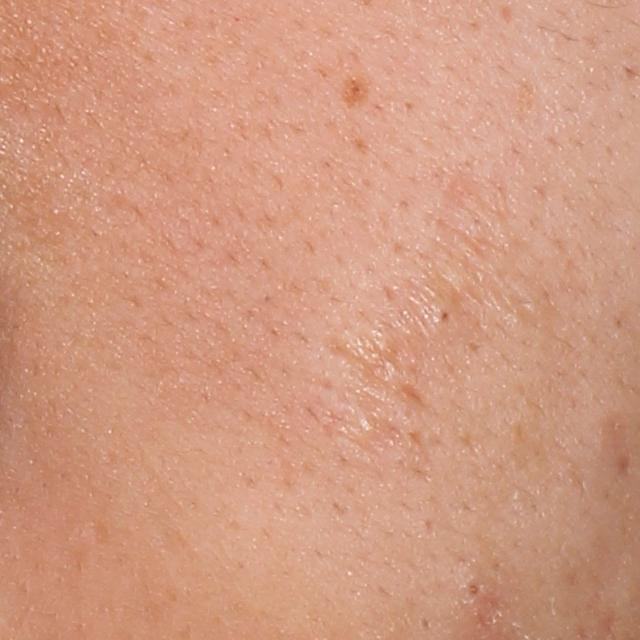atrophic_scar: (500, 3, 514, 26)
comedo: (426, 302, 462, 336)
nevus: (341, 64, 375, 106)
